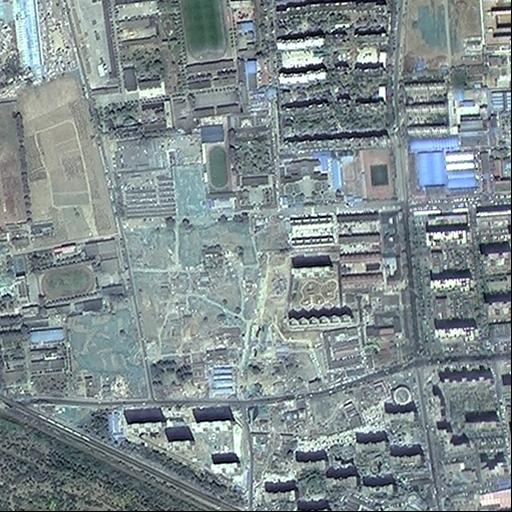school: (277, 144, 400, 206), (198, 122, 277, 212)
